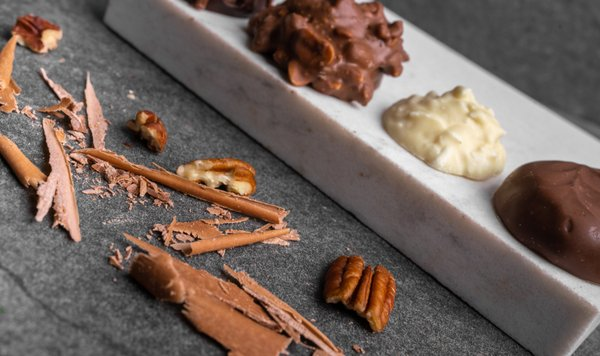salad: (492, 160, 600, 287)
